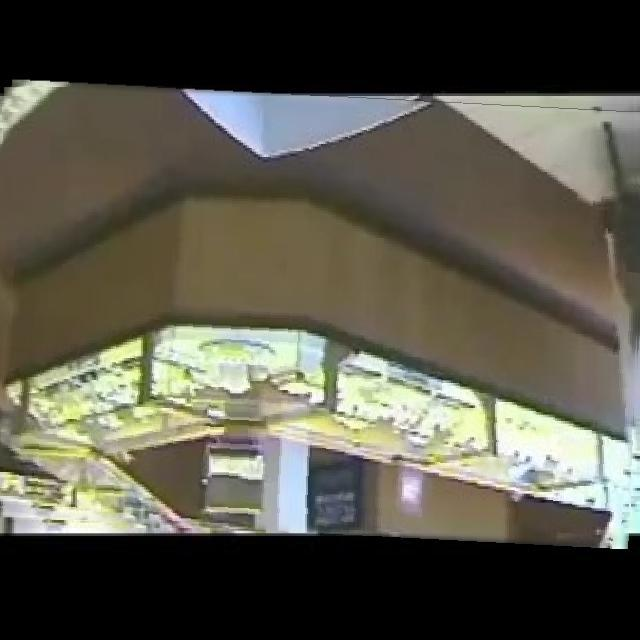Normal: (0, 87, 640, 542)
